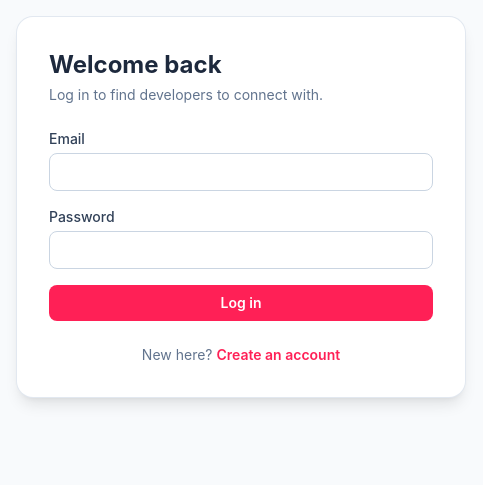
Test: LoginPage › shows the error message from the server
The image size is (483, 485).
Type "ada@example.com" into the field labelled "Email" at (241, 172), box [49,153,433,191]
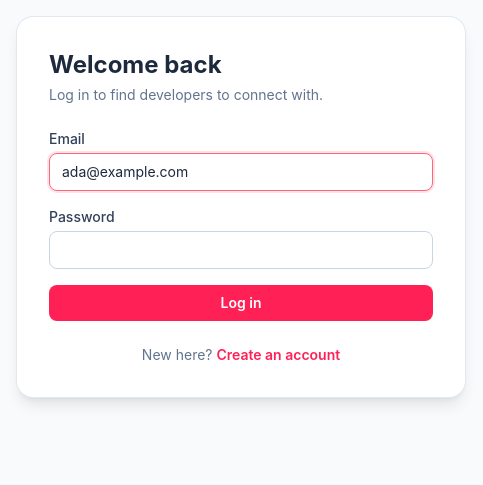
Type "wrong" into the password field labelled "Password" at (241, 250), box [49,231,433,269]
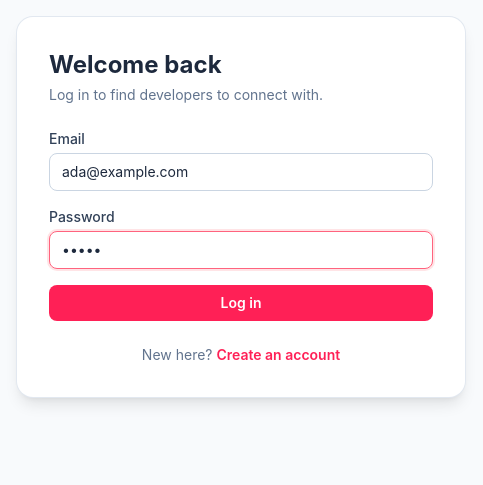
Click the button "Log in" at (241, 303), box [49,285,433,321]
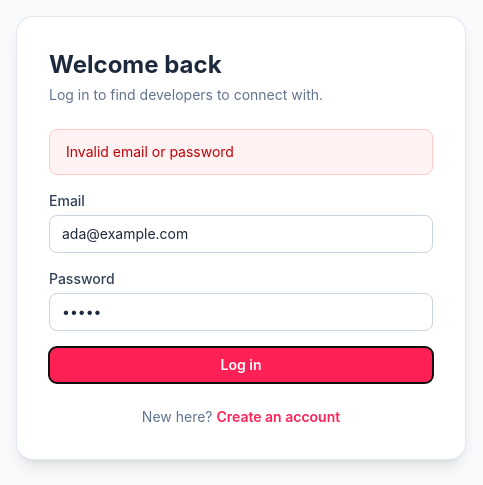
Result: the message reads "Invalid email or password" at [66,143,234,160]
